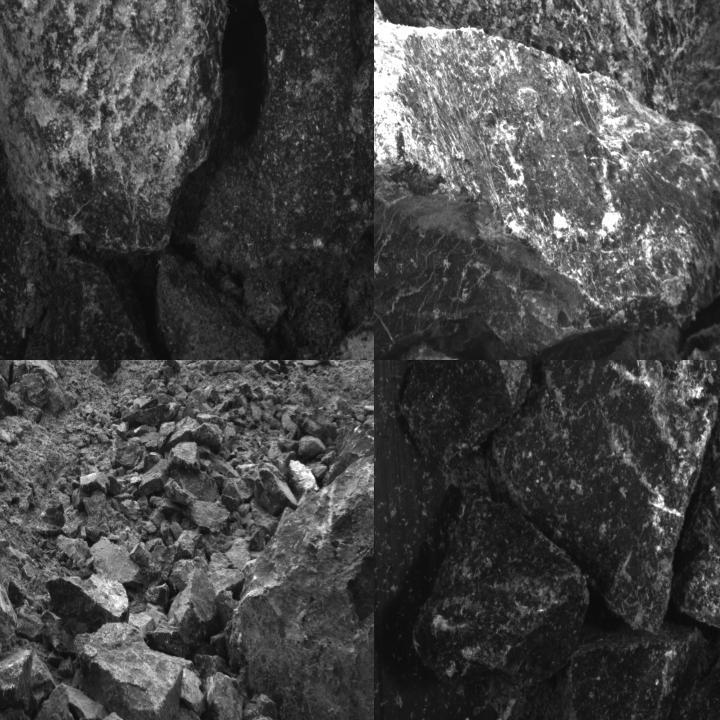stone: (374, 19, 719, 359), (374, 0, 719, 296), (493, 360, 720, 628), (0, 0, 233, 256), (173, 0, 373, 271), (236, 421, 373, 719), (417, 507, 590, 680), (22, 253, 189, 359), (537, 629, 719, 719), (237, 257, 373, 359), (674, 360, 719, 656), (403, 360, 527, 461), (156, 249, 265, 359), (71, 622, 184, 719), (48, 575, 129, 633), (176, 558, 223, 642), (90, 537, 153, 591), (244, 264, 288, 334), (254, 467, 301, 512), (0, 650, 33, 714), (190, 492, 239, 533), (204, 669, 243, 719), (33, 684, 85, 719), (173, 468, 219, 500), (180, 659, 207, 713), (0, 373, 26, 422), (139, 458, 171, 496), (110, 430, 141, 466), (288, 459, 318, 496), (122, 404, 170, 427), (209, 567, 248, 594), (169, 441, 201, 470), (20, 373, 48, 405), (165, 478, 197, 506), (221, 477, 255, 503), (80, 471, 110, 495), (169, 558, 191, 589), (162, 707, 214, 719), (299, 436, 326, 458), (157, 421, 175, 450), (0, 360, 14, 388)
